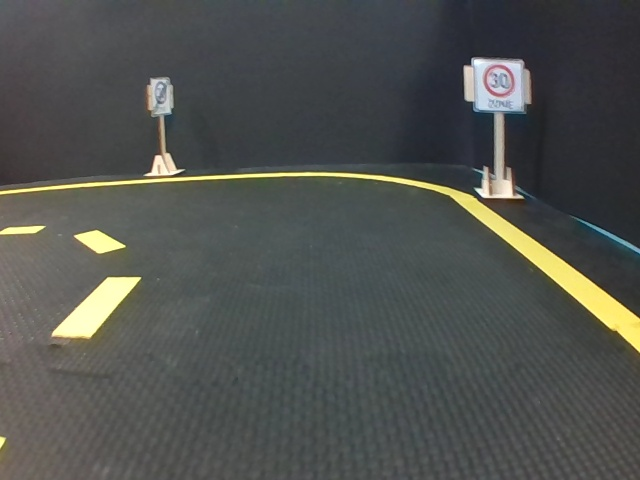30: (472, 59, 523, 109)
no30: (151, 79, 169, 113)
